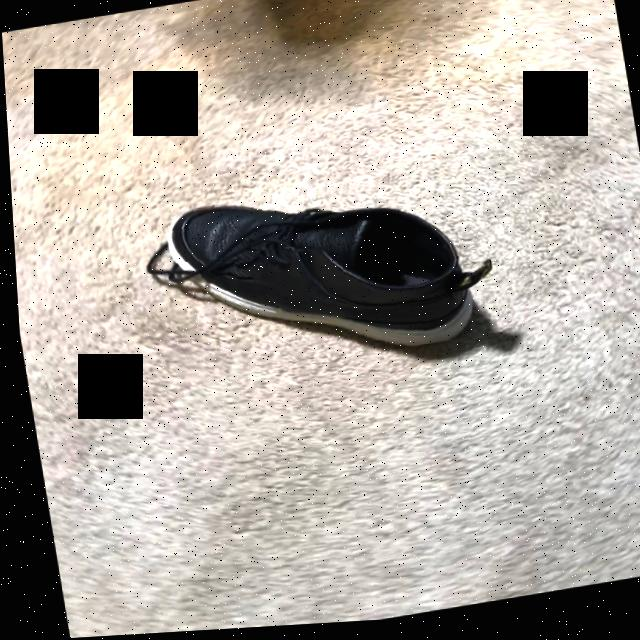shoe: (163, 208, 488, 352)
